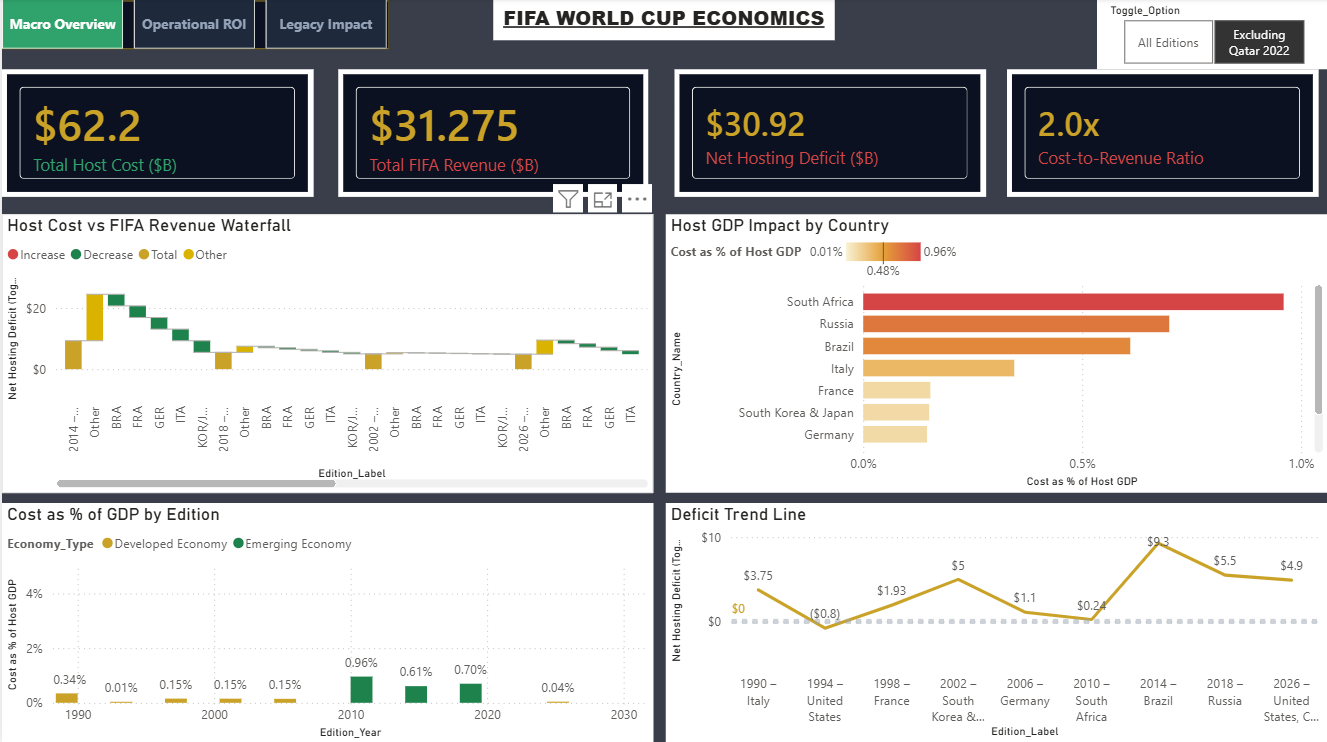

The page's visual inventory and layout, read from the dashboard file:
{"tool":"powerbi","page":{"name":"Macro Overview","canvas":[1280,720],"ordinal":0},"visuals":[{"type":"slicer","fields":{"Values":["Dim_Outlier_Toggle.Toggle_Option"]},"box":[1056.6,0,223.7,68.6],"z":0},{"type":"cardVisual","fields":{"Data":["Measure.Total Host Cost (Toggled)"]},"box":[0,68.8,300.4,123.1],"z":1000},{"type":"cardVisual","fields":{"Data":["Measure.Net Hosting Deficit (Toggled)"]},"box":[649.1,68.8,300.4,123.1],"z":2000},{"type":"cardVisual","fields":{"Data":["Measure.Total FIFA Revenue (Toggled)"]},"box":[324.5,68.8,299.2,123.1],"z":3000},{"type":"cardVisual","fields":{"Data":["Measure.Cost-to-Revenue Ratio (Toggled)"]},"box":[979.6,68.8,300.4,123.1],"z":4000},{"type":"waterfallChart","title":"Host Cost vs FIFA Revenue Waterfall","fields":{"Category":["Dim_Edition.Edition_Label"],"Breakdown":["Fact_WorldCup_Economics.Host_Country_Key"],"Y":["Measure.Net Hosting Deficit (Toggled)"]},"box":[0,208.7,628.6,269],"z":5000},{"type":"clusteredBarChart","title":"Host GDP Impact by Country","fields":{"Category":["Dim_Host_Country.Country_Name"],"Y":["Measure.Cost as % of Host GDP"]},"box":[640.8,208.6,639.5,269],"z":6000},{"type":"clusteredColumnChart","title":"Cost as % of GDP by Edition","fields":{"Category":["Dim_Edition.Edition_Year"],"Y":["Measure.Cost as % of Host GDP"],"Series":["Dim_Host_Country.Economy_Type"]},"box":[0,487.4,628.6,232.8],"z":7000},{"type":"lineChart","title":"Deficit Trend Line","fields":{"Category":["Dim_Edition.Edition_Label"],"Y":["Measure.Net Hosting Deficit (Toggled)"]},"box":[641,488,639,232],"z":8000},{"type":"textbox","box":[474.1,0,329.4,41],"z":9000},{"type":"shape","box":[0,2.4,374,47.1],"z":10000},{"type":"pageNavigator","box":[0,0,374,49.5],"z":11000}]}

Visuals, with their boxes in screenshot pixels (x1, y1, x2, y2), scaled from the page's 1280x720 canvas onto the 1327x742 screenshot:
slicer - Dim_Outlier_Toggle.Toggle_Option: [1095,0,1326,71]
cardVisual - Measure.Total Host Cost (Toggled): [0,71,311,198]
cardVisual - Measure.Net Hosting Deficit (Toggled): [673,71,984,198]
cardVisual - Measure.Total FIFA Revenue (Toggled): [336,71,647,198]
cardVisual - Measure.Cost-to-Revenue Ratio (Toggled): [1016,71,1326,198]
"Host Cost vs FIFA Revenue Waterfall" waterfallChart: [0,215,652,492]
"Host GDP Impact by Country" clusteredBarChart: [664,215,1326,492]
"Cost as % of GDP by Edition" clusteredColumnChart: [0,502,652,741]
"Deficit Trend Line" lineChart: [665,503,1326,741]
textbox: [492,0,833,42]
shape: [0,2,388,51]
pageNavigator: [0,0,388,51]
